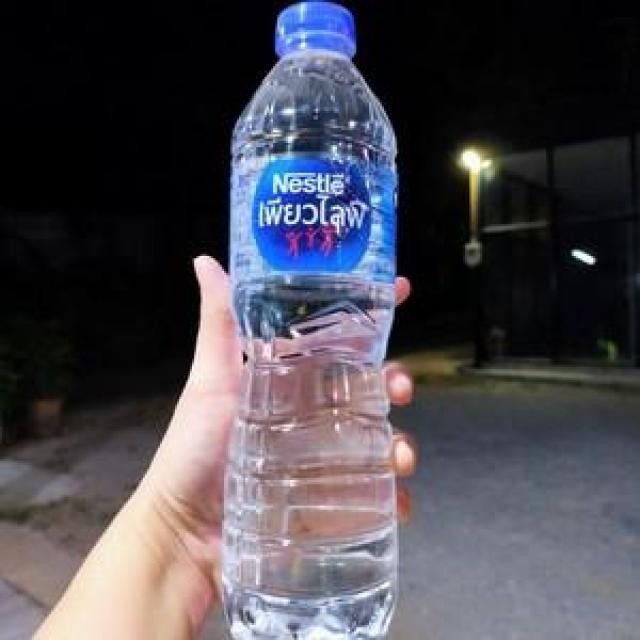bottle: (210, 0, 409, 640)
